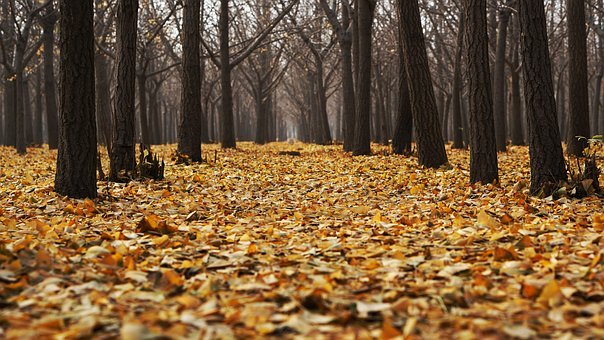field: (9, 155, 604, 339)
tree: (449, 1, 582, 182), (16, 1, 111, 203), (68, 1, 163, 203), (154, 1, 256, 151), (240, 1, 342, 151), (342, 1, 444, 151)
